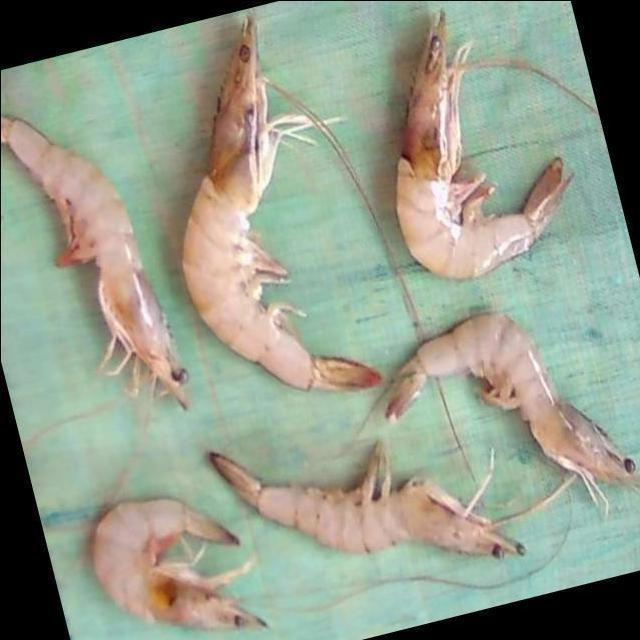shrimp: (181, 17, 380, 391), (0, 116, 186, 409), (380, 315, 640, 500), (396, 13, 572, 279), (207, 443, 525, 560), (90, 501, 265, 632)
